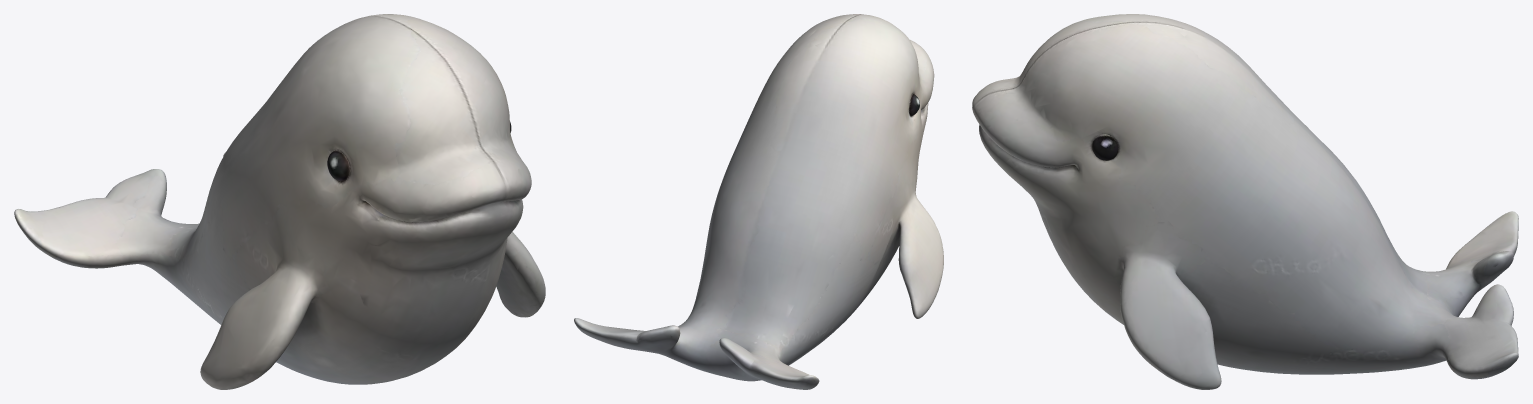
File: beluga_pbr.glb
3 renders of one model, left to right at view 1: azimuth 30°, elevation 25°; view 2: azimuth 150°, elevation 25°; view 3: azimuth 270°, elevation 25°, orthographic. The views are drawn at different scales.
Parts seen in each view (by area): view 1: model; view 2: model; view 3: model.
Boxes of the visible parts, <box> form: model: <box>14,14,545,389</box>; model: <box>574,14,943,389</box>; model: <box>972,14,1518,389</box>.
Bounding box in the file's own units: 1.15 × 1.28 × 1.83.
1 material, 1 textured.
